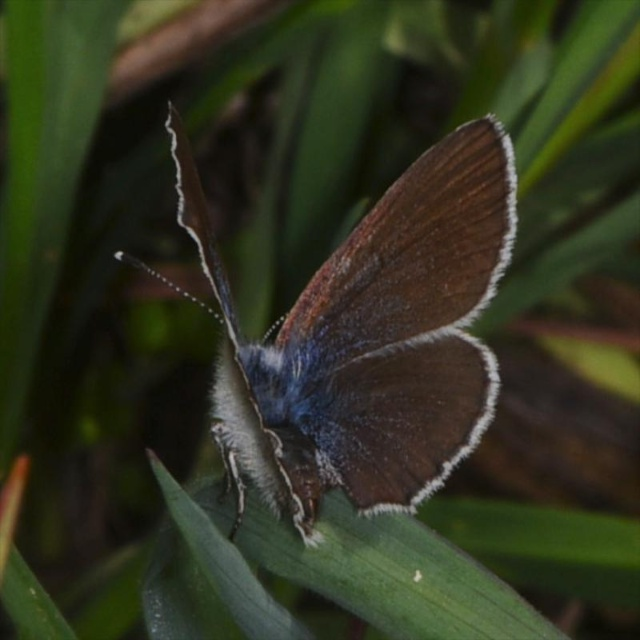Butterfly: (121, 102, 528, 552)
